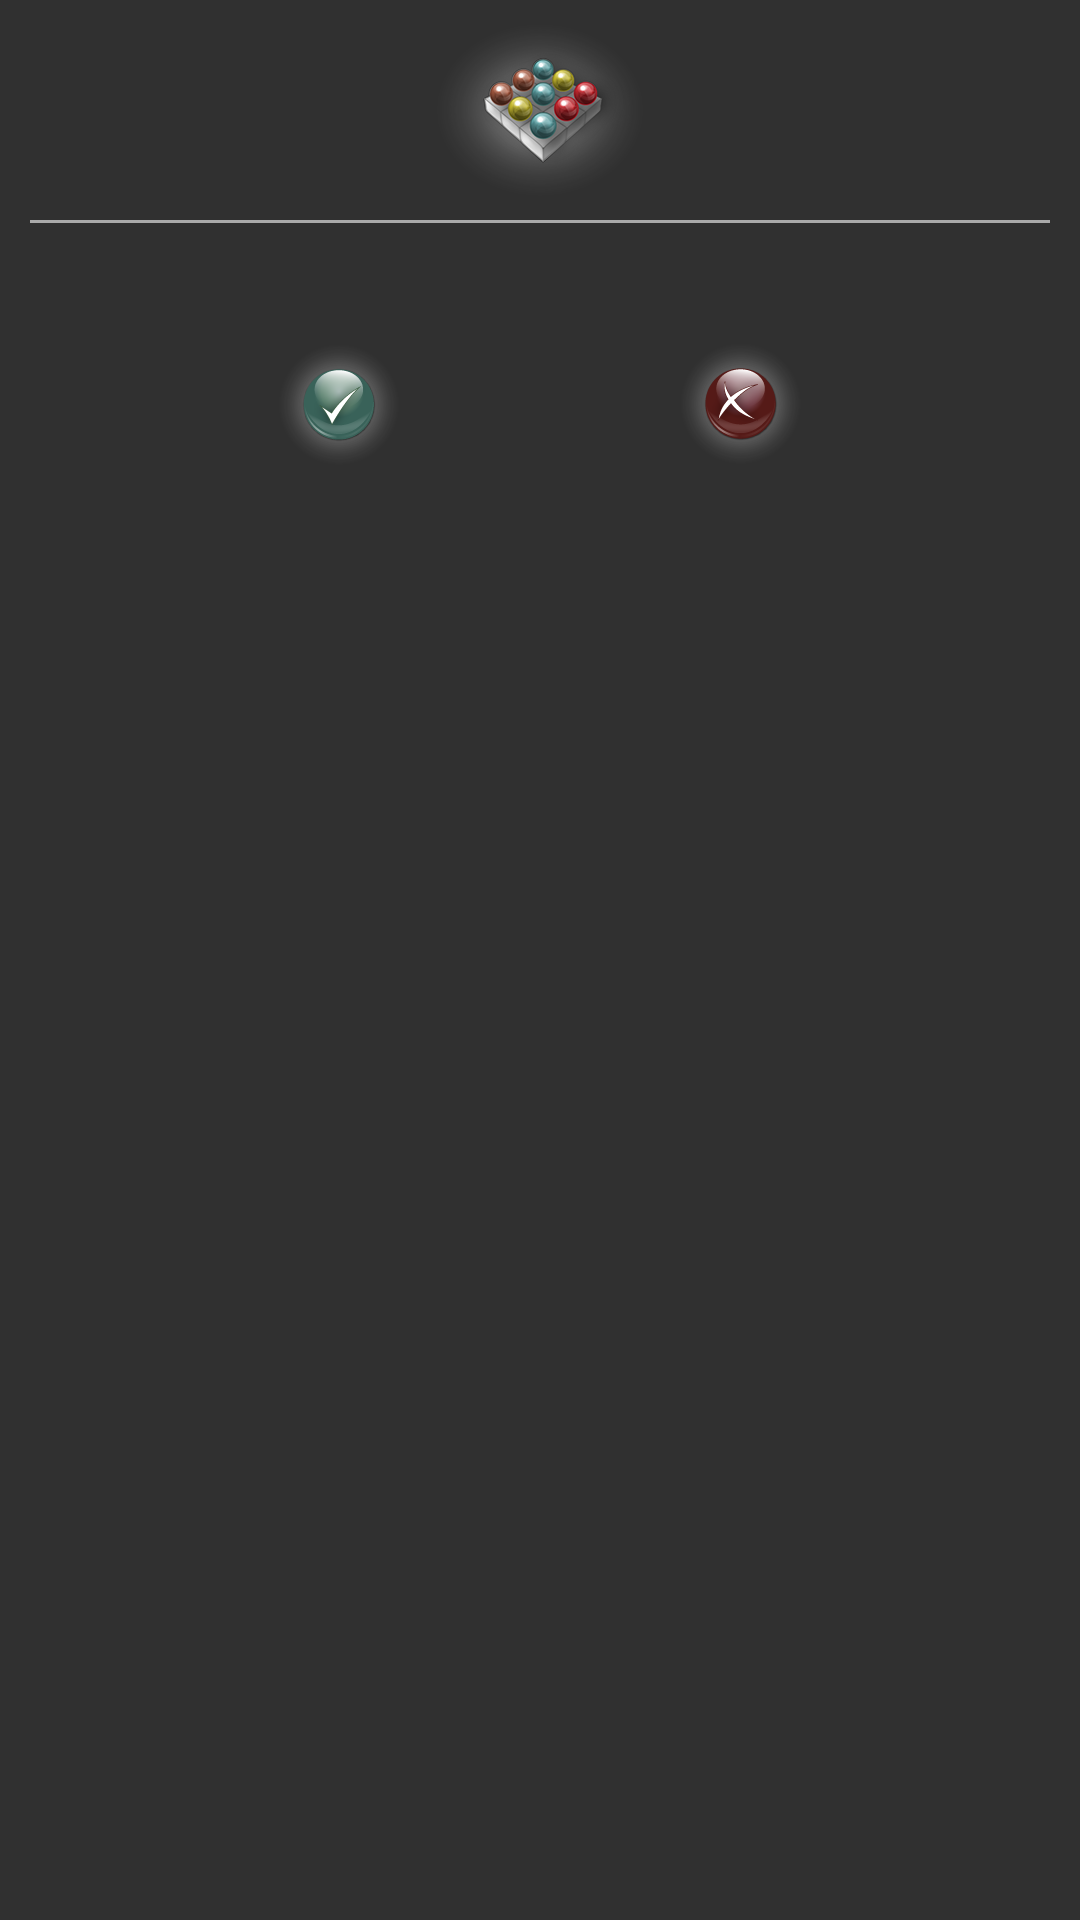

Screen size 1080×1920. Icon name, then its box in pixels as Rect(x1, y1, x2, y2):
yes: Rect(295, 361, 383, 448)
